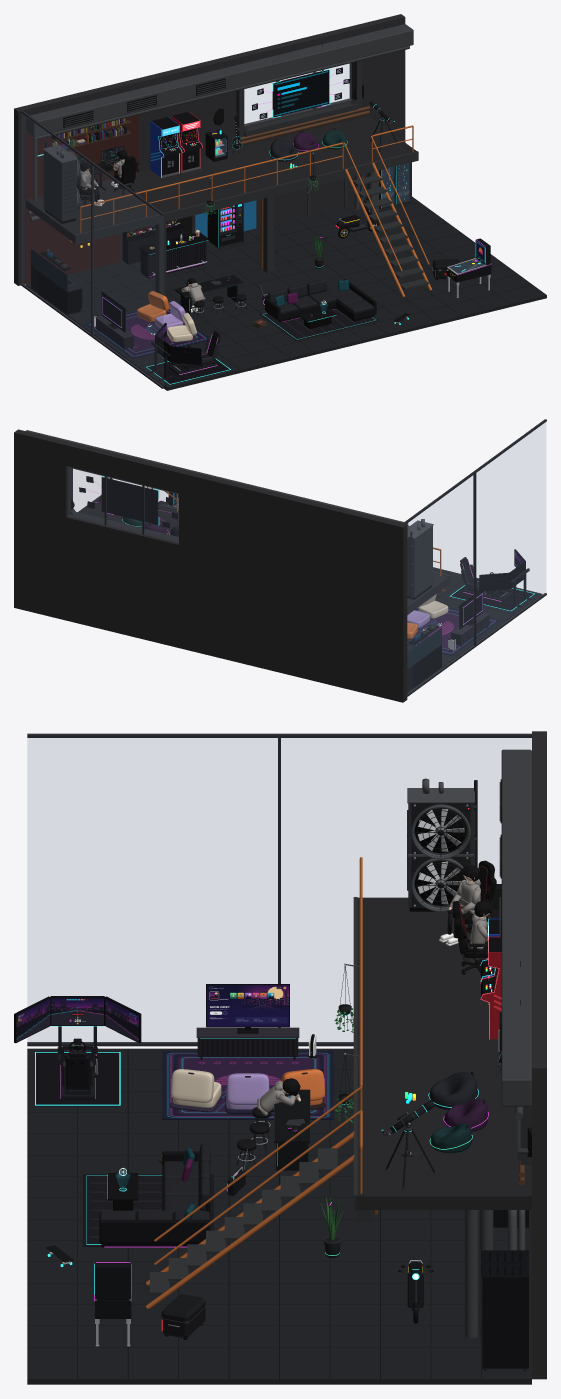
The model's file is office.glb.
3 renders of one model, top to bottom at view 1: azimuth 30°, elevation 25°; view 2: azimuth 150°, elevation 25°; view 3: azimuth 270°, elevation 25°, orthographic. The views are drawn at different scales.
Visible parts, largest first — view 1: Floor, LeftGlass, Mezzanine, DuctBack, BackWall, BackWallR, MezzanineFascia, BackWallBelowWindow, ChillAreaMerged, BarMerged, BrickLowerBack, BrickUpperBack (+27 smaller); view 2: BackWall, LeftGlass, BackWallBelowWindow, BackWallR, WindowGlass, BackWallAboveWindow, ChillAreaMerged, HoloBoardBack, Floor, FanCabinet, Mezzanine, ChillAreaRugTop (+9 smaller); view 3: LeftGlass, Floor, Mezzanine, DuctBack, ChillAreaMerged, BackWallR, ChillAreaRugTop, ServerRacks1Side1, ChillAreaTVScreen, SimRigMat, BackWall, LoungeSetRug (+25 smaller).
Part boxes in pixels (x1,y1,x2,y2): Floor: (25, 196, 546, 390); LeftGlass: (22, 114, 163, 386); Mezzanine: (25, 116, 416, 242); DuctBack: (26, 24, 413, 137); BackWall: (14, 54, 241, 285); BackWallR: (349, 14, 405, 203); MezzanineFascia: (74, 151, 418, 244); BackWallBelowWindow: (241, 98, 353, 227); ChillAreaMerged: (85, 291, 206, 358); BarMerged: (122, 219, 208, 278); BrickLowerBack: (25, 208, 119, 284); BrickUpperBack: (25, 115, 138, 199); BackWall: (179, 469, 407, 702); LeftGlass: (407, 422, 545, 693); BackWallBelowWindow: (65, 514, 178, 647); BackWallR: (14, 429, 69, 620); WindowGlass: (68, 467, 178, 542); BackWallAboveWindow: (65, 442, 182, 493); ChillAreaMerged: (407, 588, 499, 655); HoloBoardBack: (101, 477, 157, 524); Floor: (158, 501, 542, 693); FanCabinet: (407, 526, 432, 597); Mezzanine: (78, 495, 449, 614); ChillAreaRugTop: (407, 607, 499, 655); LeftGlass: (27, 738, 531, 1042); Floor: (27, 1048, 531, 1384); Mezzanine: (355, 897, 531, 1209); DuctBack: (501, 749, 531, 1106); ChillAreaMerged: (162, 984, 333, 1119); BackWallR: (532, 1023, 546, 1379); ChillAreaRugTop: (162, 1051, 333, 1119); ServerRacks1Side1: (481, 1277, 528, 1368); ChillAreaTVScreen: (206, 985, 289, 1026); SimRigMat: (35, 1052, 120, 1106); BackWall: (532, 731, 546, 925); LoungeSetRug: (82, 1174, 213, 1246).
Bounding box in the file's own units: 15.8 × 6.92 × 10.56.
Materials: 357 (13 with a texture image).
